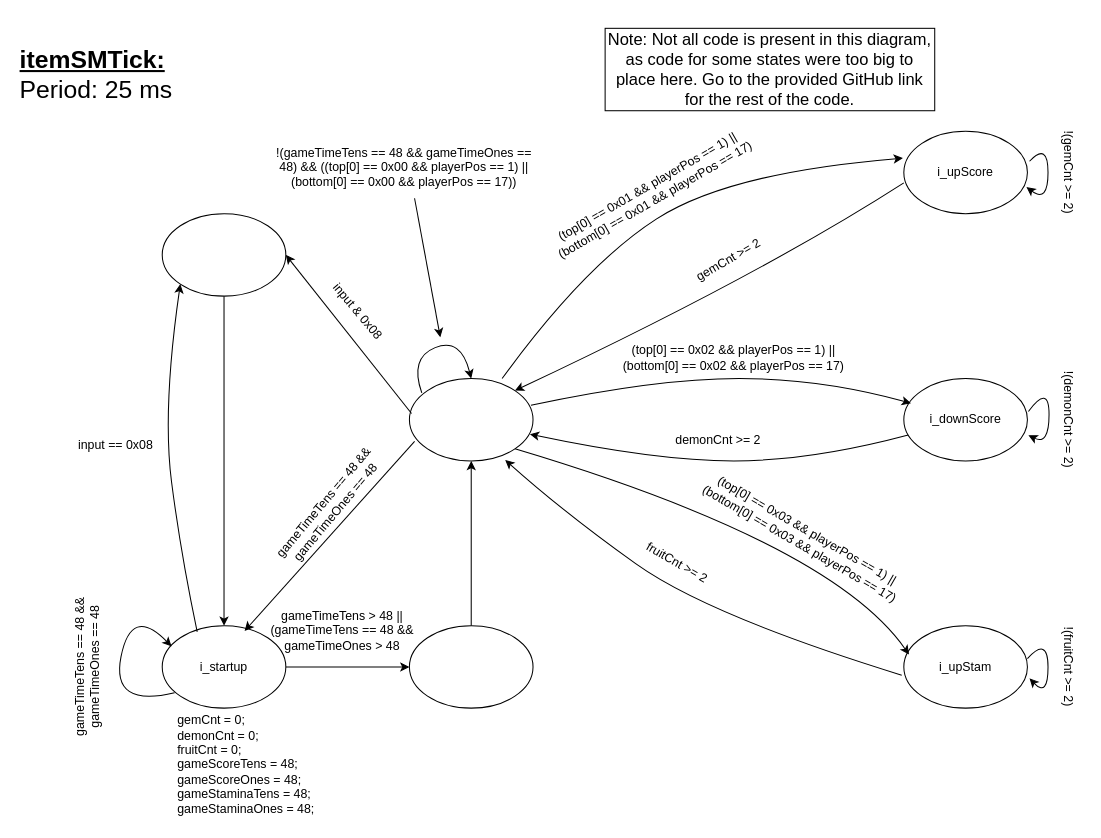
The diagram is 1101 pixels wide and 838 high, and some of its shapes have lost their labels. The shapes that lost their labels are listed below. From the top down, each one's box as (x1, y1, x2, y2) in pixels, then its label:
(161, 213, 286, 296): i_init
(408, 377, 533, 461): i_wait
(408, 625, 533, 708): i_reset
